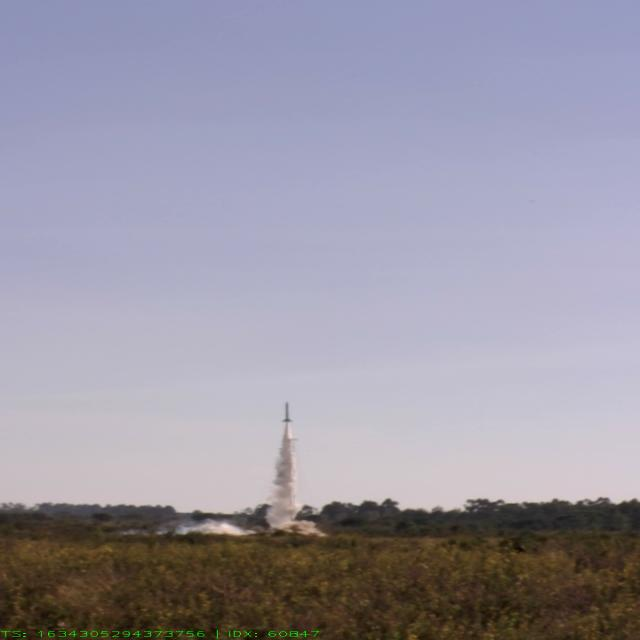Rocket: (282, 402, 293, 422)
